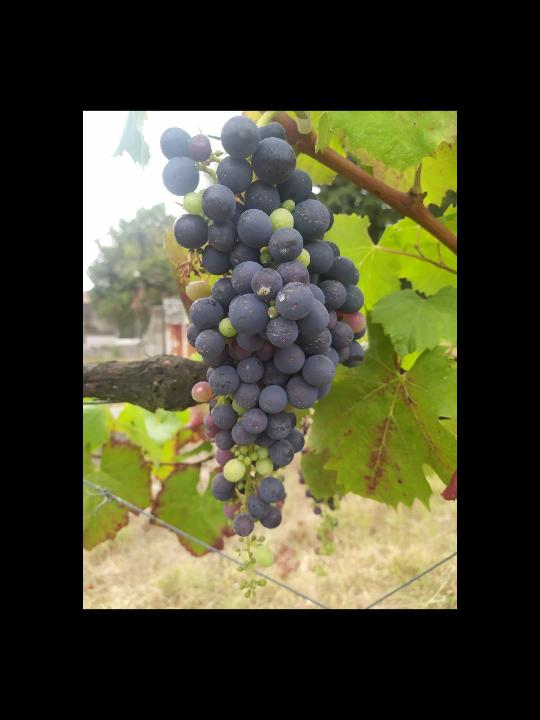grape: (159, 114, 367, 601)
